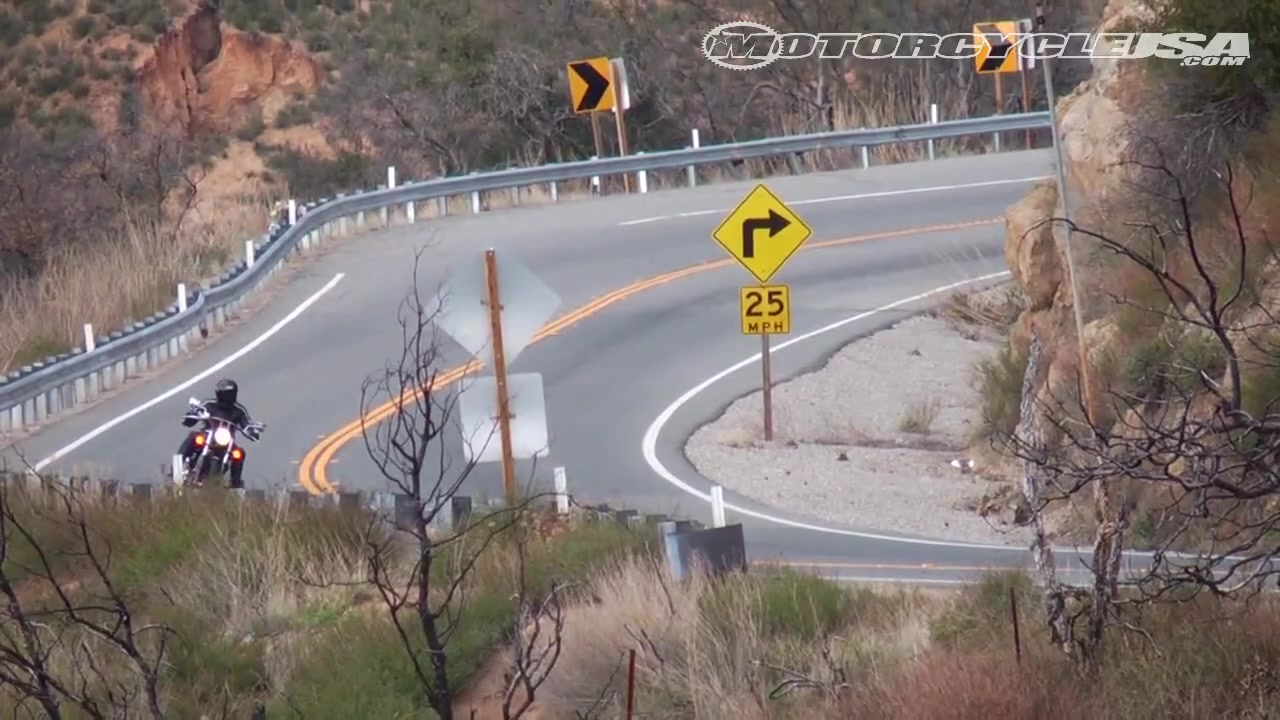motorbike: (171, 401, 265, 488)
